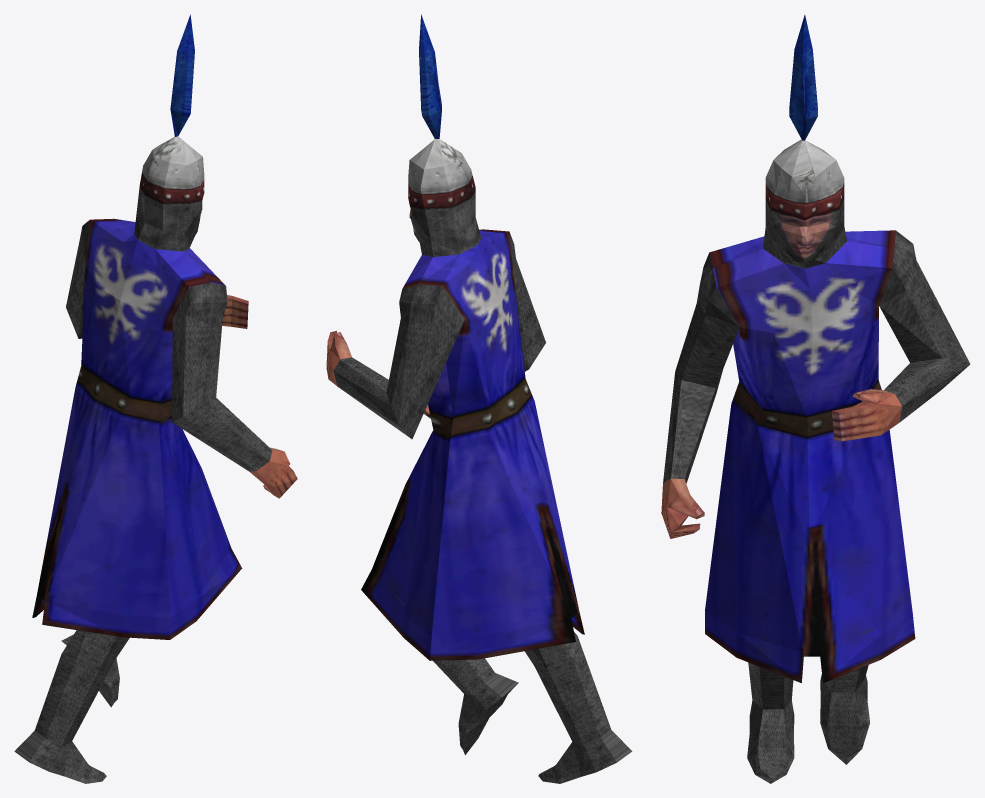
Rendered from guard_run6.obj.
The picture shows the model from 3 angles, left to right: view 1: azimuth 30°, elevation 25°; view 2: azimuth 150°, elevation 25°; view 3: azimuth 270°, elevation 25°; orthographic projection. The views are drawn at different scales.
Parts seen in each view (by area): view 1: Object_1; view 2: Object_1; view 3: Object_1.
Part boxes in pixels (left/top/right/bottom): Object_1: left=14, top=14, right=297, bottom=783; Object_1: left=326, top=14, right=632, bottom=783; Object_1: left=661, top=14, right=970, bottom=783.
Size of the model in its own units: 0.8214 by 2.23 by 0.7561.
Materials: 1 (1 with a texture image).
